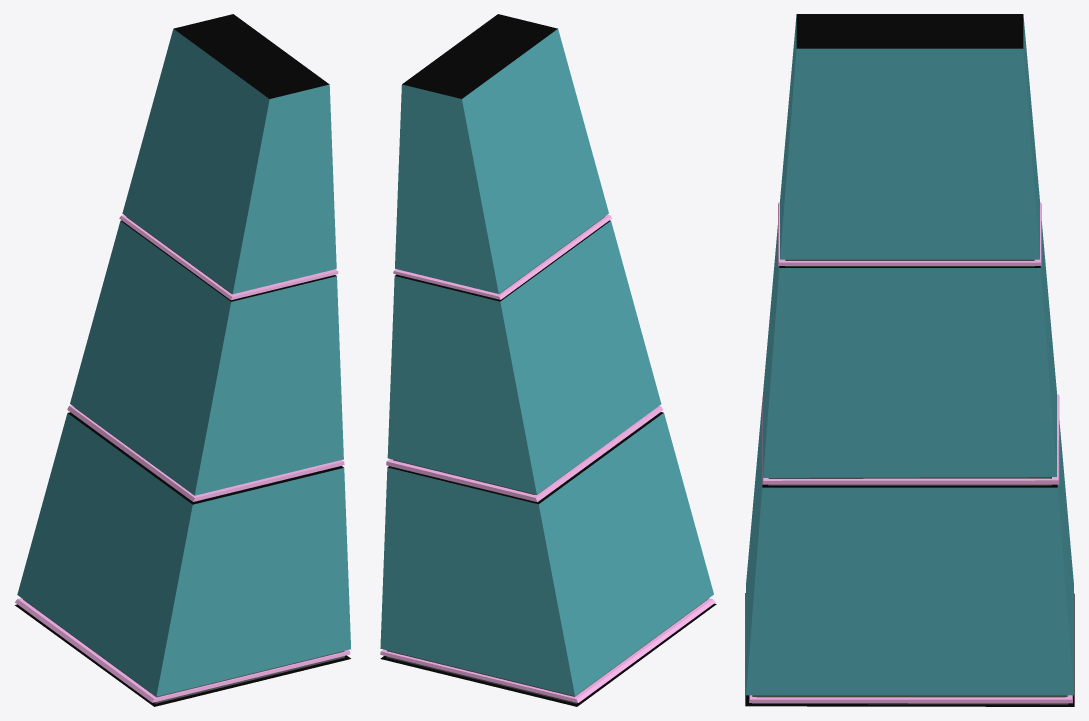
The model's file is SM_Environment_Buildings_Mid_05.fbx.
The picture shows the model from 3 angles, left to right: view 1: azimuth 30°, elevation 25°; view 2: azimuth 150°, elevation 25°; view 3: azimuth 270°, elevation 25°; orthographic projection. The views are drawn at different scales.
Visible parts, largest first — view 1: SM_Environment_Buildings_Mid_05, Lights; view 2: SM_Environment_Buildings_Mid_05, Lights; view 3: SM_Environment_Buildings_Mid_05, Lights.
Boxes of the visible parts, bbox=[...] form: SM_Environment_Buildings_Mid_05: bbox=[15, 14, 350, 706]; Lights: bbox=[15, 215, 350, 702]; SM_Environment_Buildings_Mid_05: bbox=[380, 14, 716, 706]; Lights: bbox=[380, 214, 715, 702]; SM_Environment_Buildings_Mid_05: bbox=[745, 14, 1074, 706]; Lights: bbox=[749, 202, 1072, 703].
Size of the model in its own units: 10.26 by 27.6 by 12.52.
